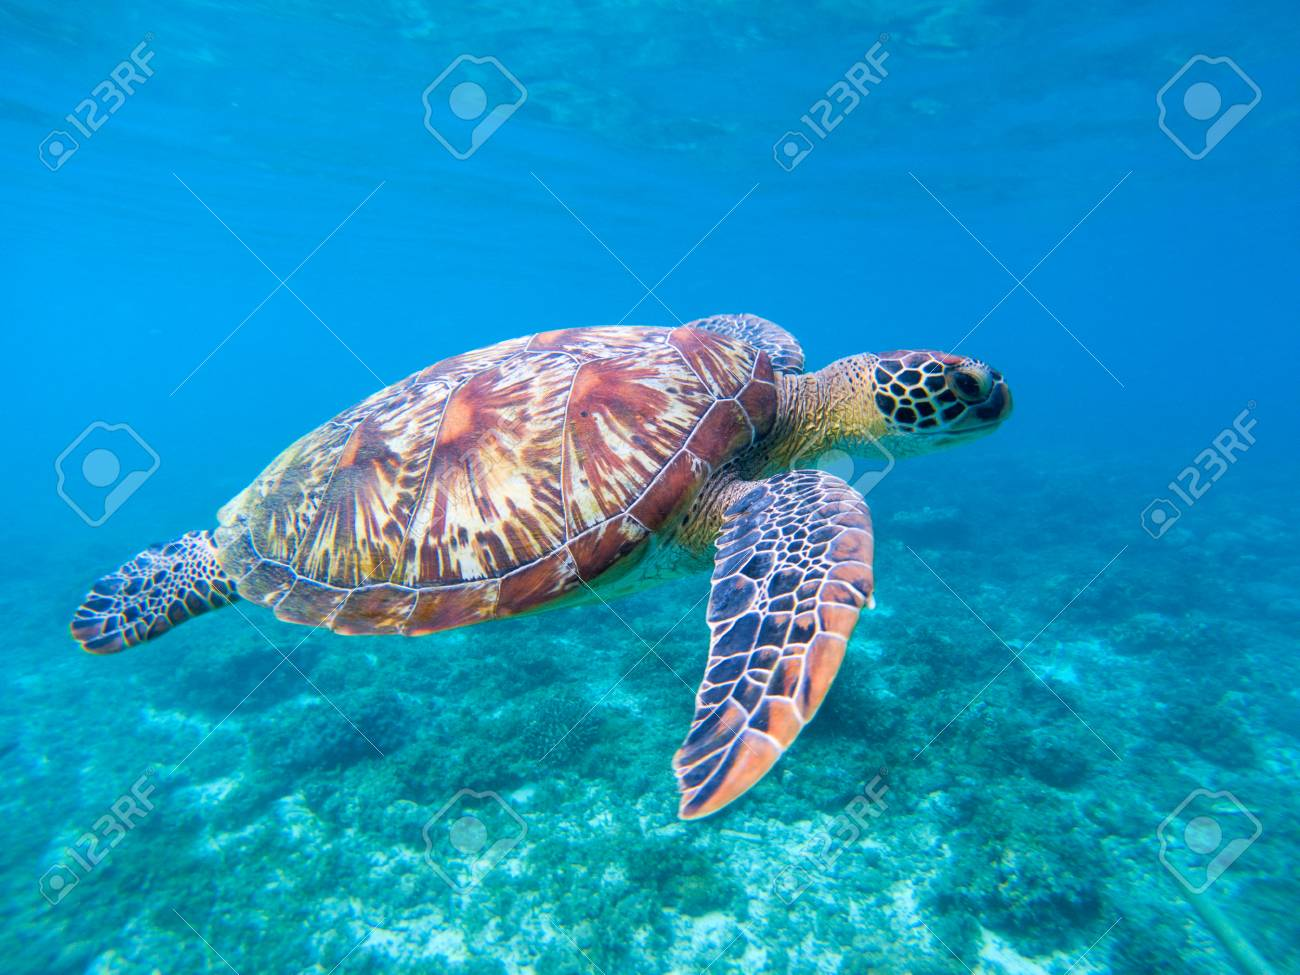trutle: (60, 312, 1041, 832)
